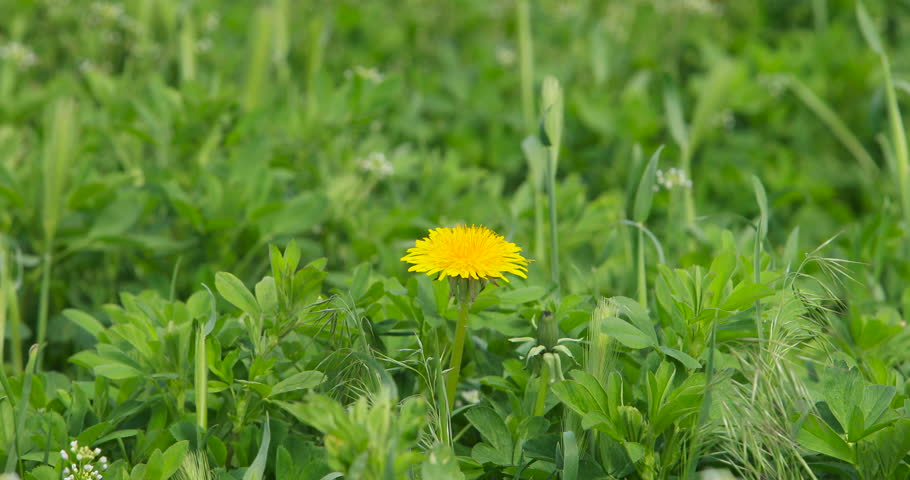dandelion: (402, 222, 541, 291)
